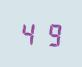four: (19, 18, 39, 46)
nine: (40, 19, 60, 47)
